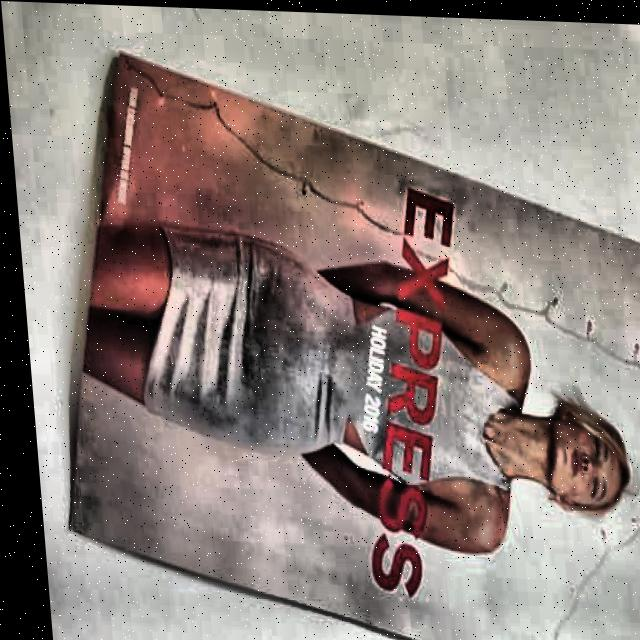paper: (28, 46, 640, 640)
